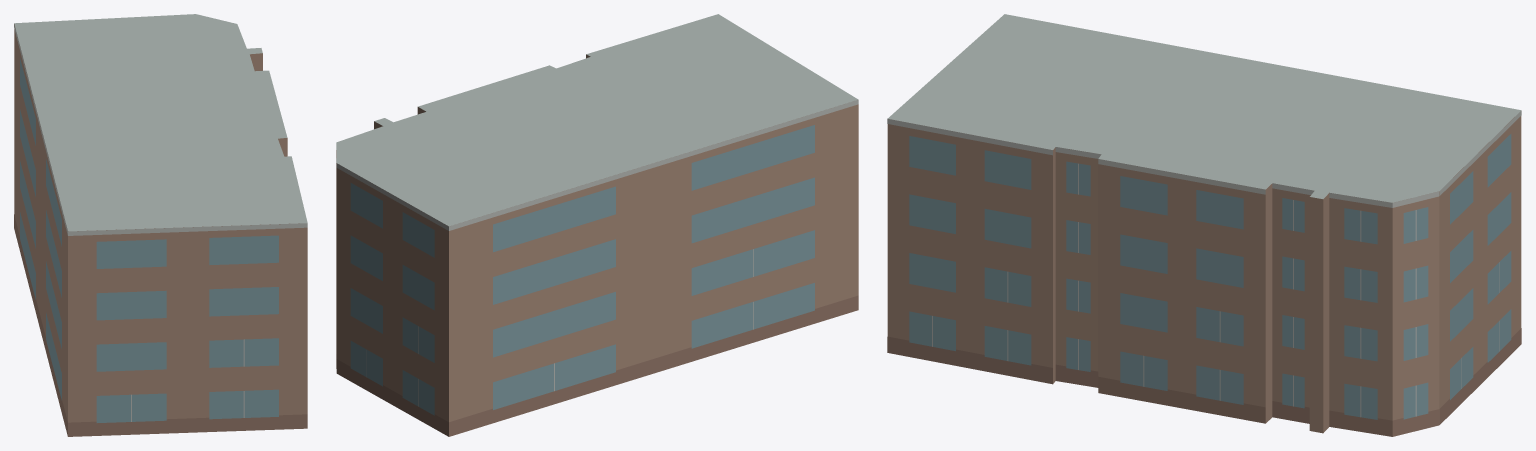
The model's file is survey-upis-32904736.glb.
3 renders of one model, left to right at view 1: azimuth 30°, elevation 25°; view 2: azimuth 150°, elevation 25°; view 3: azimuth 270°, elevation 25°, orthographic. The views are drawn at different scales.
Parts seen in each view (by area): view 1: survey-upis-32904736.tmp; view 2: survey-upis-32904736.tmp; view 3: survey-upis-32904736.tmp.
Boxes of the visible parts, x1,y1,x2,y2 form: survey-upis-32904736.tmp: (14, 14, 307, 436); survey-upis-32904736.tmp: (336, 14, 858, 436); survey-upis-32904736.tmp: (887, 14, 1521, 436).
Size of the model in its own units: 19.04 by 11 by 27.01.
